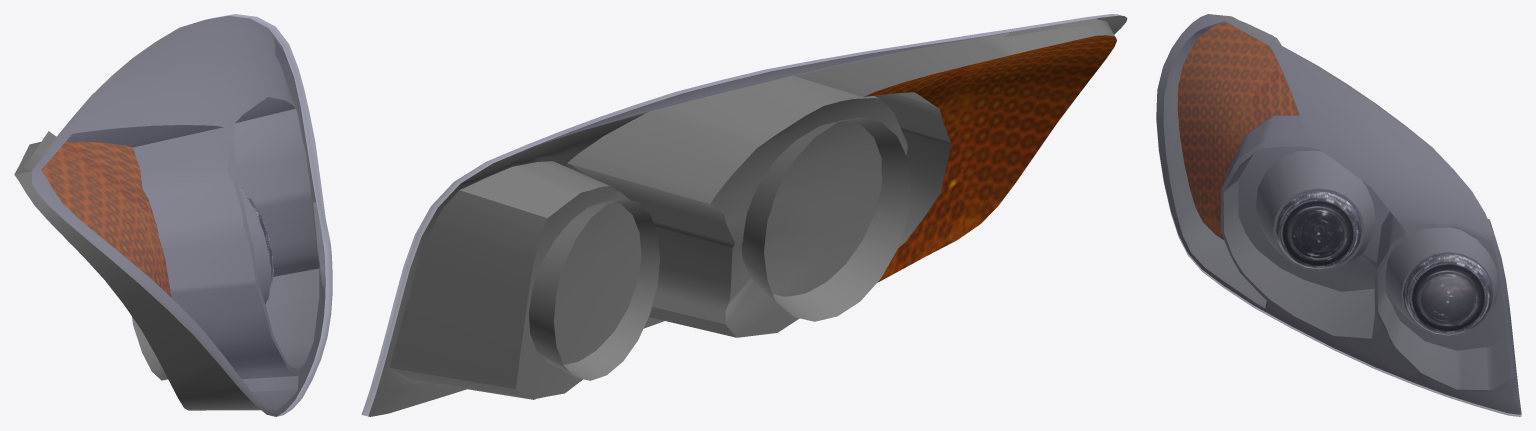
The picture shows the model from 3 angles, left to right: view 1: azimuth 30°, elevation 25°; view 2: azimuth 150°, elevation 25°; view 3: azimuth 270°, elevation 25°; orthographic projection. The views are drawn at different scales.
Parts seen in each view (by area): view 1: Y712_061B_R_Y712_061B_R_6_DTaSI, Y712_061B_R_Y712_061B_R_3_DaS, Y712_061B_R_Y712_061B_R_5_N, Y712_061B_R_1_N_Y712_061B_R; view 2: Y712_061B_R_Y712_061B_R_3_DaS, Y712_061B_R_Y712_061B_R_5_N, Y712_061B_R_Y712_061B_R_6_DTaSI; view 3: Y712_061B_R_Y712_061B_R_6_DTaSI, Y712_061B_R_Y712_061B_R_3_DaS, Y712_061B_R_Y712_061B_R_5_N, Y712_061B_R_Y712_061B_R_2_N, Y712_061B_R_1_N_Y712_061B_R.
Part boxes in pixels (box(x1,y1,x2,y2)): Y712_061B_R_Y712_061B_R_6_DTaSI: box(32, 14, 332, 416); Y712_061B_R_Y712_061B_R_3_DaS: box(14, 15, 325, 416); Y712_061B_R_Y712_061B_R_5_N: box(41, 141, 171, 297); Y712_061B_R_1_N_Y712_061B_R: box(240, 189, 273, 300); Y712_061B_R_Y712_061B_R_3_DaS: box(368, 15, 1127, 416); Y712_061B_R_Y712_061B_R_5_N: box(864, 35, 1116, 282); Y712_061B_R_Y712_061B_R_6_DTaSI: box(361, 14, 1122, 416); Y712_061B_R_Y712_061B_R_6_DTaSI: box(1156, 14, 1521, 416); Y712_061B_R_Y712_061B_R_3_DaS: box(1156, 14, 1521, 414); Y712_061B_R_Y712_061B_R_5_N: box(1177, 22, 1299, 239); Y712_061B_R_Y712_061B_R_2_N: box(1403, 253, 1493, 335); Y712_061B_R_1_N_Y712_061B_R: box(1275, 191, 1361, 269).
Size of the model in its own units: 42.59 by 28.03 by 39.04.
